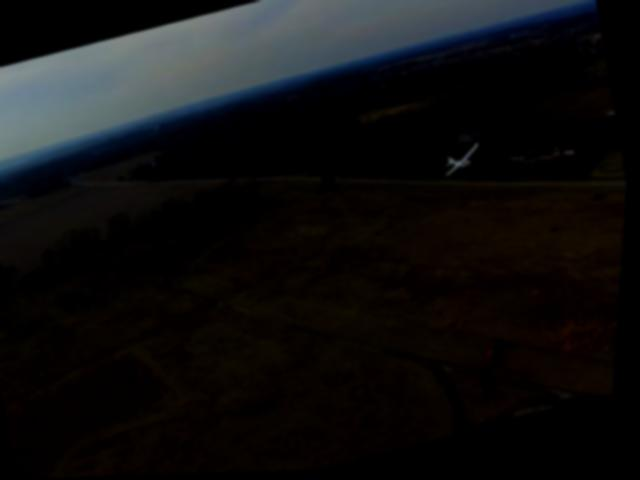uav: (435, 133, 501, 199)
